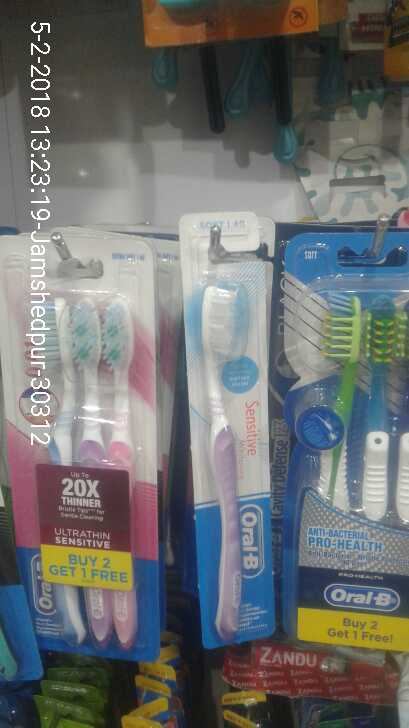oralb: (28, 279, 161, 650), (294, 271, 409, 649), (189, 292, 265, 644)
